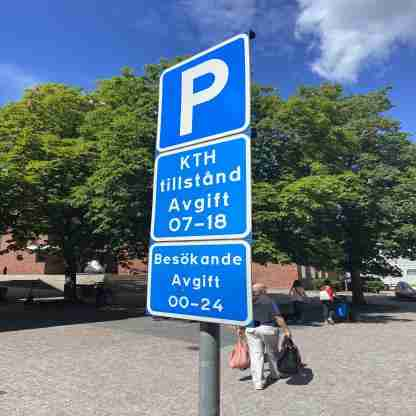lastplats: (157, 33, 249, 150)
